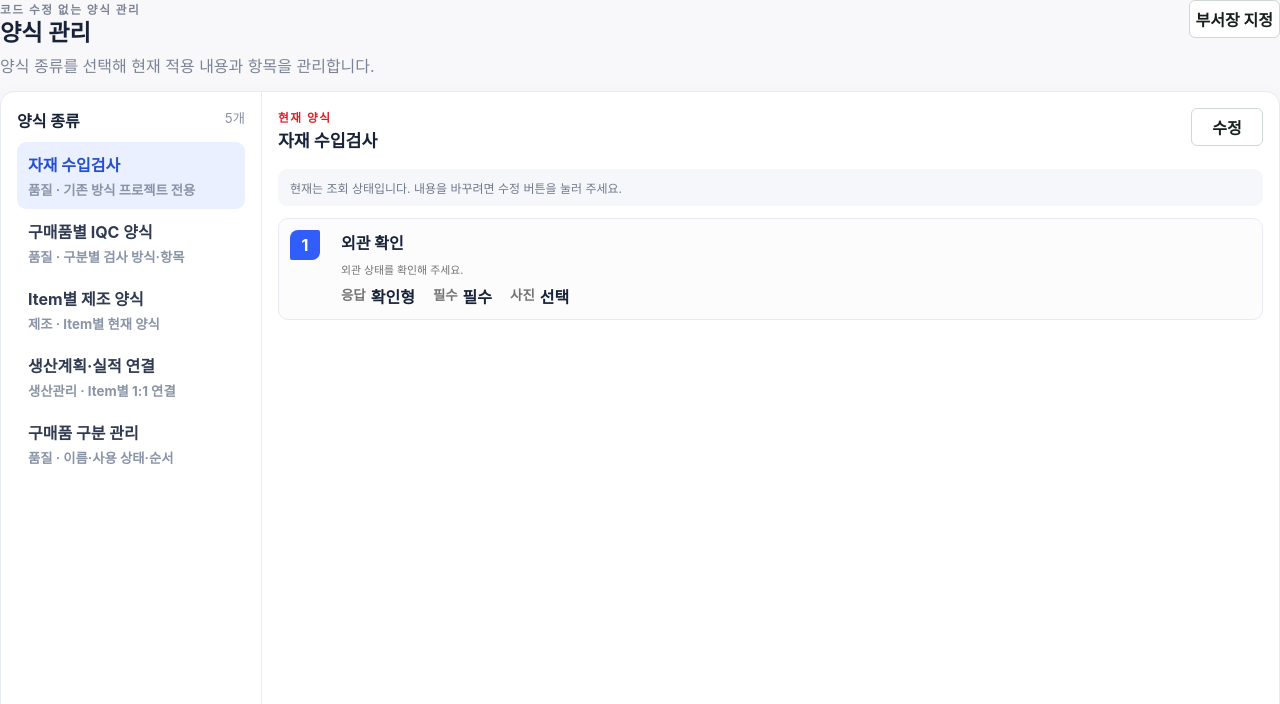
Test case: FormTemplateManagementPage › validates manufacturing rows precisely and saves a replacement before relinking the production plan
The image size is (1280, 704).
Click the button "Item별 제조 양식 제조 · Item별 현재 양식" at (131, 309), box [17,276,245,343]
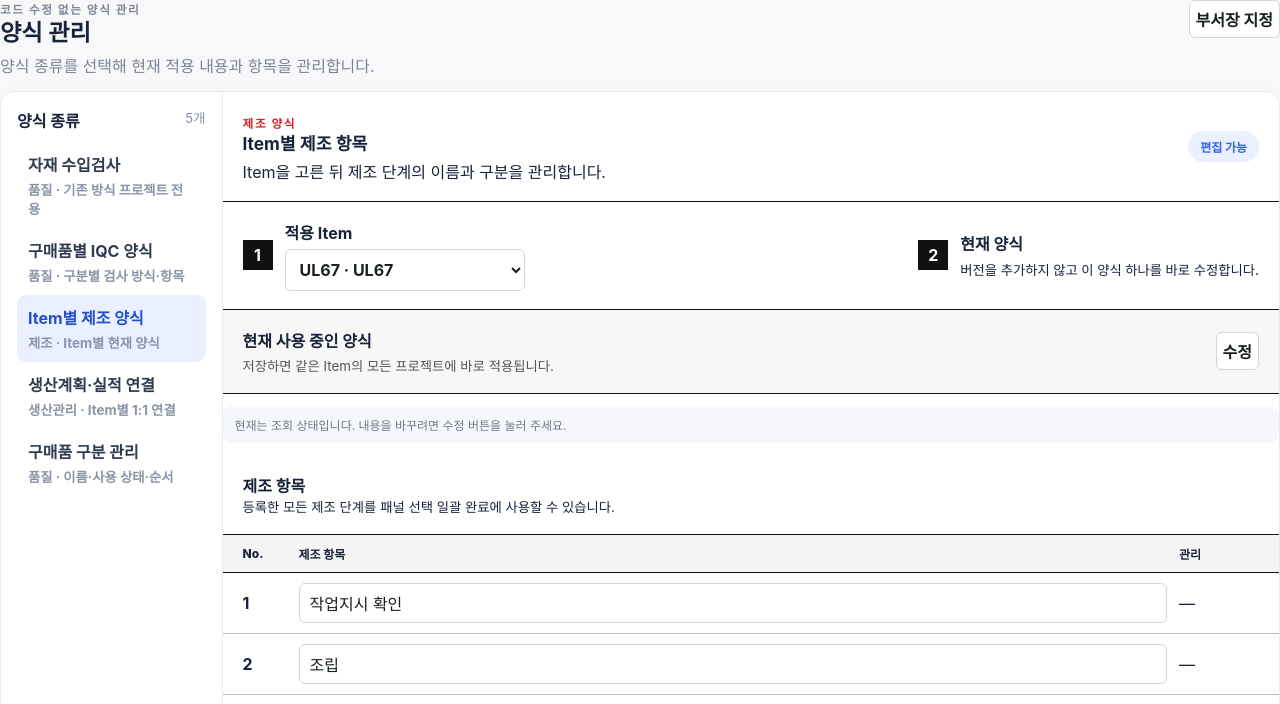
Now the dropdown labelled "적용 Item" shows "UL67 · UL67", box [284,249,524,291]
Click the button "수정" at (1237, 351), box [1216,332,1259,370]
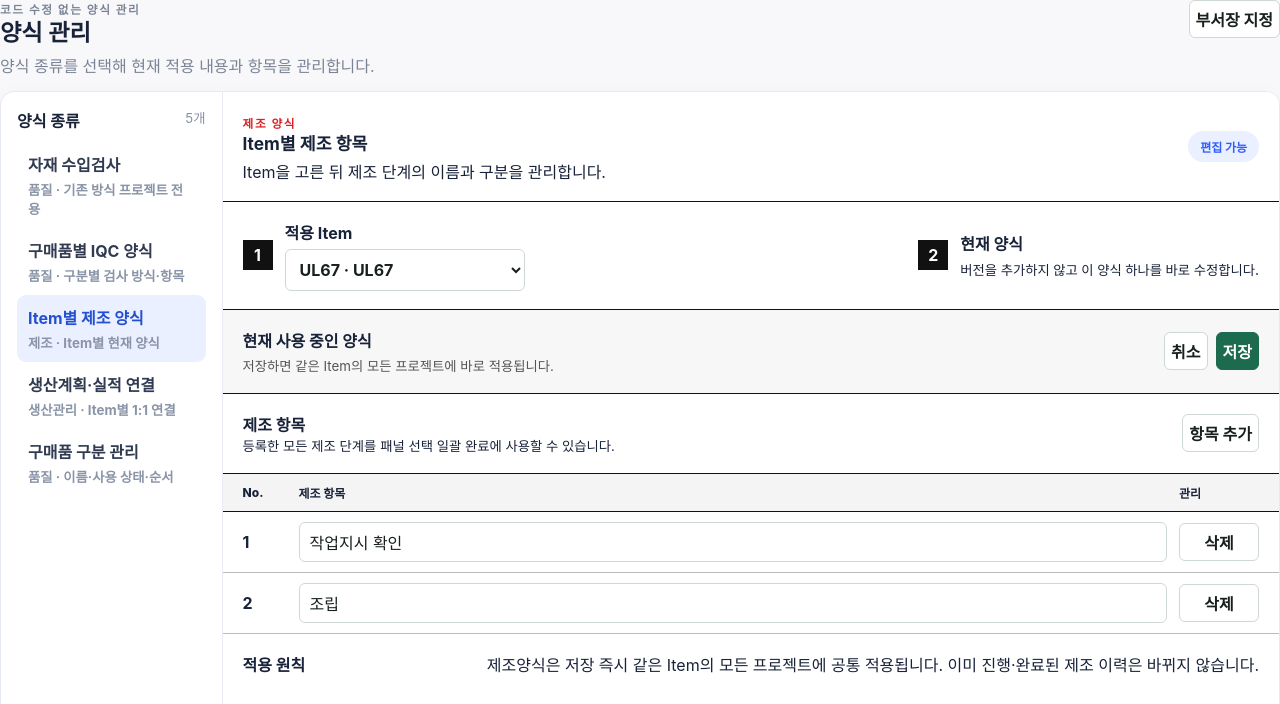
Now the text "등록한 모든 제조 단계를 패널 선택 일괄 완료에 사용할 수 있습니다." is shown, box [242,436,615,455]
Now the button "저장" is enabled
Click the button "저장" at (1237, 351), box [1216,332,1259,370]
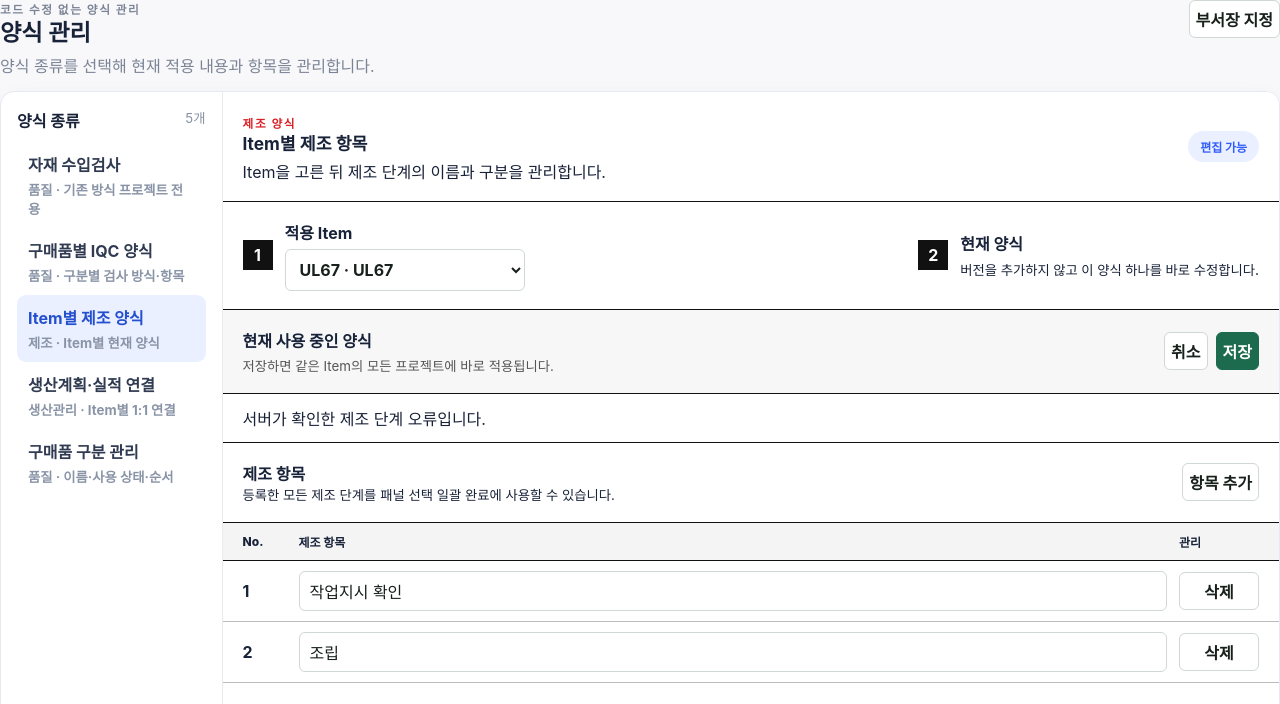
Now the text "서버가 확인한 제조 단계 오류입니다." is shown, box [222,394,1279,443]
Click the 1st button "삭제" at (1219, 591), box [1179,572,1259,610]
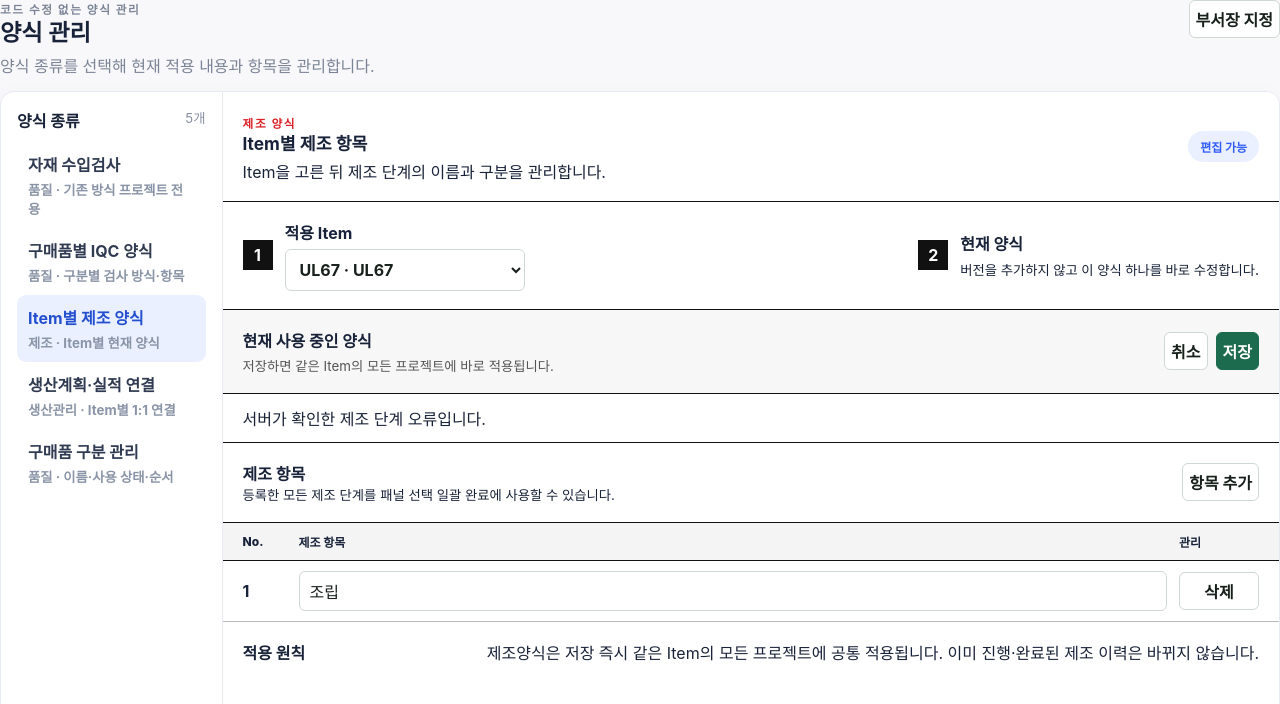
Click the button "저장" at (1237, 351), box [1216,332,1259,370]
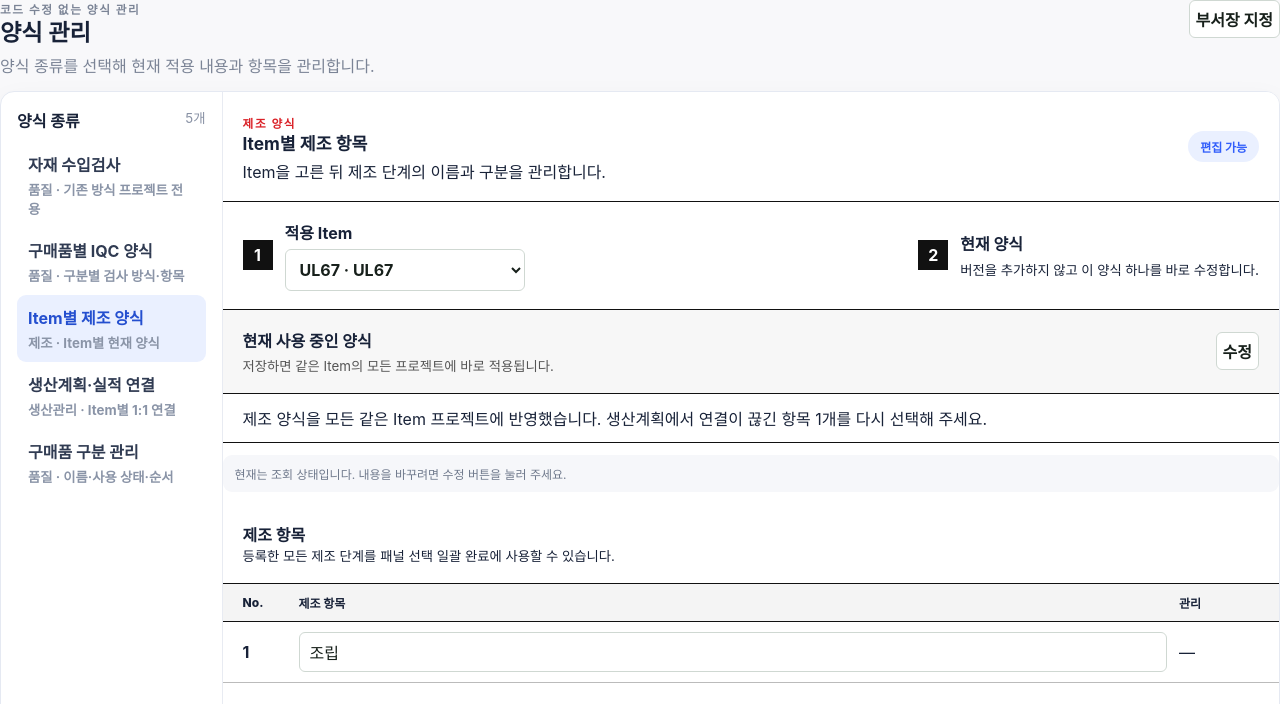
Now the text "제조 양식을 모든 같은 Item 프로젝트에 반영했습니다. 생산계획에서 연결이 끊긴 항목 1개를 다시 선택해 주세요." is shown, box [222,394,1279,443]
Click the button "생산계획·실적 연결 생산관리 · Item별 1:1 연결" at (111, 395), box [17,362,206,429]
(page scrolled)
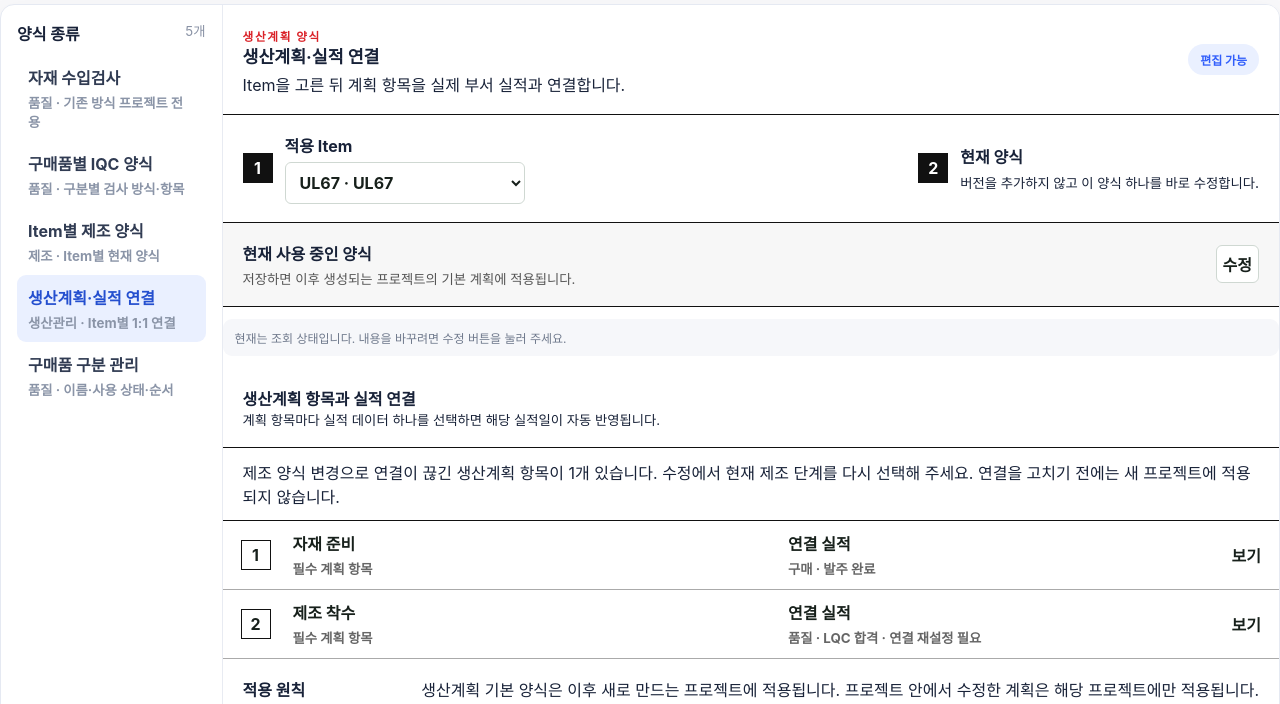
Now the message shows "연결이 끊긴 생산계획 항목이 1개", box [222,448,1279,521]
Now the button "2 제조 착수 필수 계획 항목 연결 실적 품질 · LQC 합격 · 연결 재설정 필요 보기" is shown, box [222,590,1279,658]
